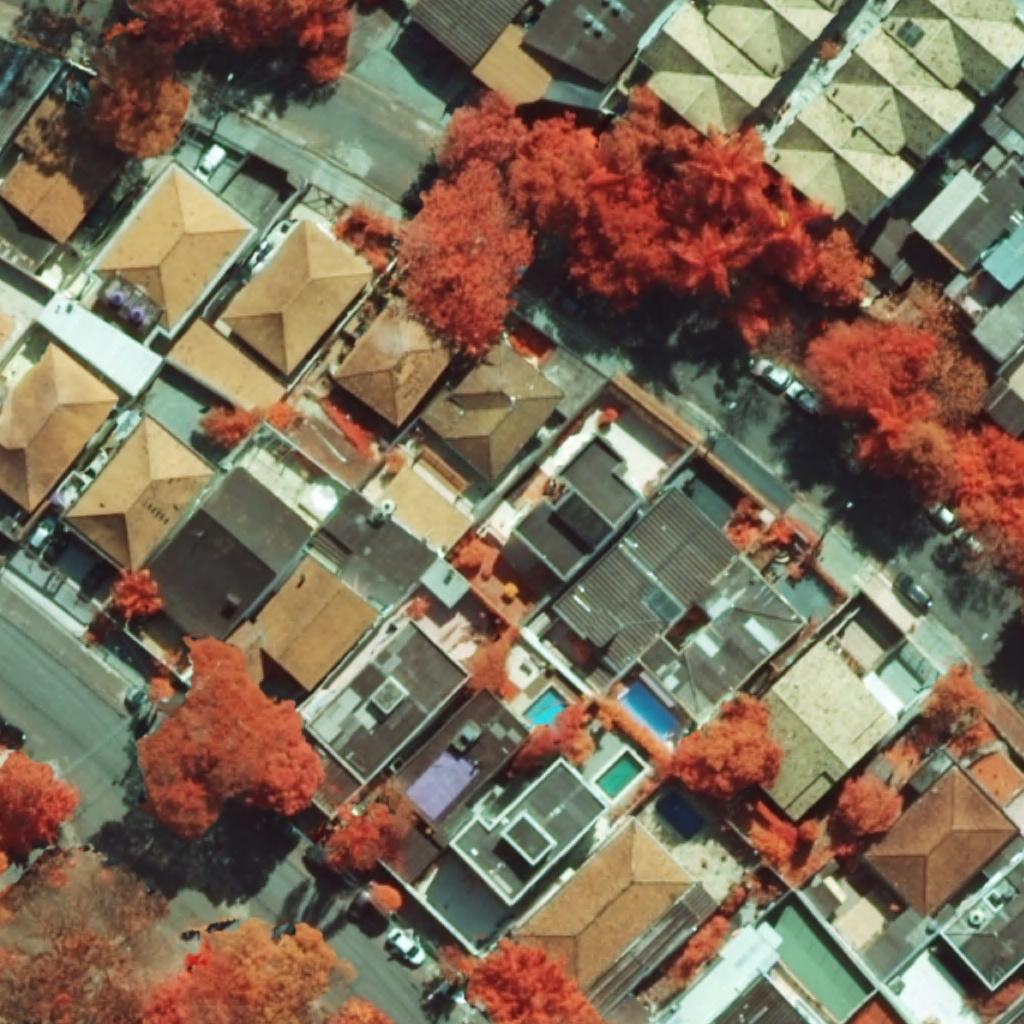pool: (620, 684, 675, 739), (596, 751, 645, 799), (523, 688, 566, 728)
